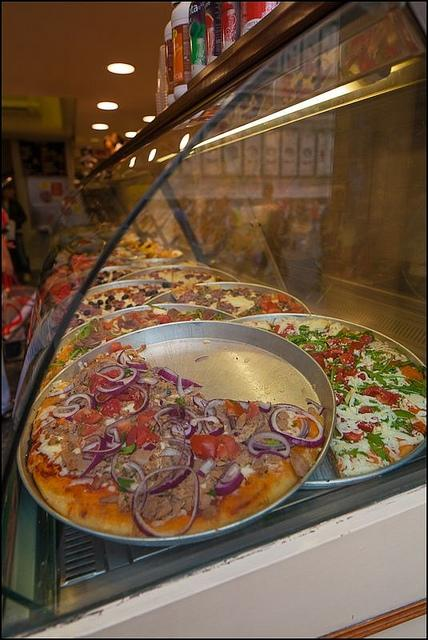onion: (270, 407, 324, 448), (110, 451, 142, 494), (78, 434, 106, 478), (149, 468, 192, 496), (96, 368, 138, 394), (248, 432, 290, 458), (214, 460, 244, 496), (128, 461, 148, 514), (158, 370, 204, 390), (188, 416, 224, 436), (204, 398, 225, 432), (104, 416, 128, 445), (128, 384, 150, 415), (81, 441, 123, 456), (95, 364, 125, 382), (64, 393, 96, 409), (82, 448, 121, 461), (46, 382, 74, 397), (196, 458, 216, 478), (122, 354, 146, 370), (170, 424, 195, 439), (168, 404, 186, 419), (136, 376, 160, 387), (200, 400, 216, 416), (158, 447, 182, 456), (176, 376, 185, 396), (115, 376, 132, 386), (183, 384, 194, 394), (239, 400, 250, 410)
tomato: (388, 360, 423, 384), (191, 434, 219, 461), (364, 386, 400, 406), (216, 434, 240, 460), (137, 420, 158, 449), (70, 407, 104, 424), (128, 389, 146, 411), (101, 400, 120, 418), (244, 403, 260, 424), (226, 400, 244, 418), (322, 348, 346, 361), (309, 352, 326, 370), (92, 376, 110, 392), (137, 410, 159, 423), (410, 421, 426, 438), (126, 424, 138, 446), (346, 341, 364, 355), (358, 421, 380, 432), (78, 426, 98, 438), (147, 314, 171, 324), (340, 352, 356, 366), (342, 432, 364, 442), (58, 285, 70, 299), (260, 301, 276, 311), (407, 406, 426, 414), (343, 368, 358, 378), (114, 394, 133, 401), (110, 342, 122, 353), (289, 300, 302, 310), (266, 306, 282, 314), (179, 315, 200, 321), (358, 406, 373, 414), (336, 393, 344, 406), (335, 372, 345, 382), (278, 294, 289, 303), (360, 336, 372, 344), (288, 307, 304, 313), (102, 321, 112, 330), (135, 318, 148, 324), (109, 370, 118, 378), (357, 373, 366, 381), (276, 333, 287, 338), (124, 288, 130, 294), (147, 311, 152, 316)
